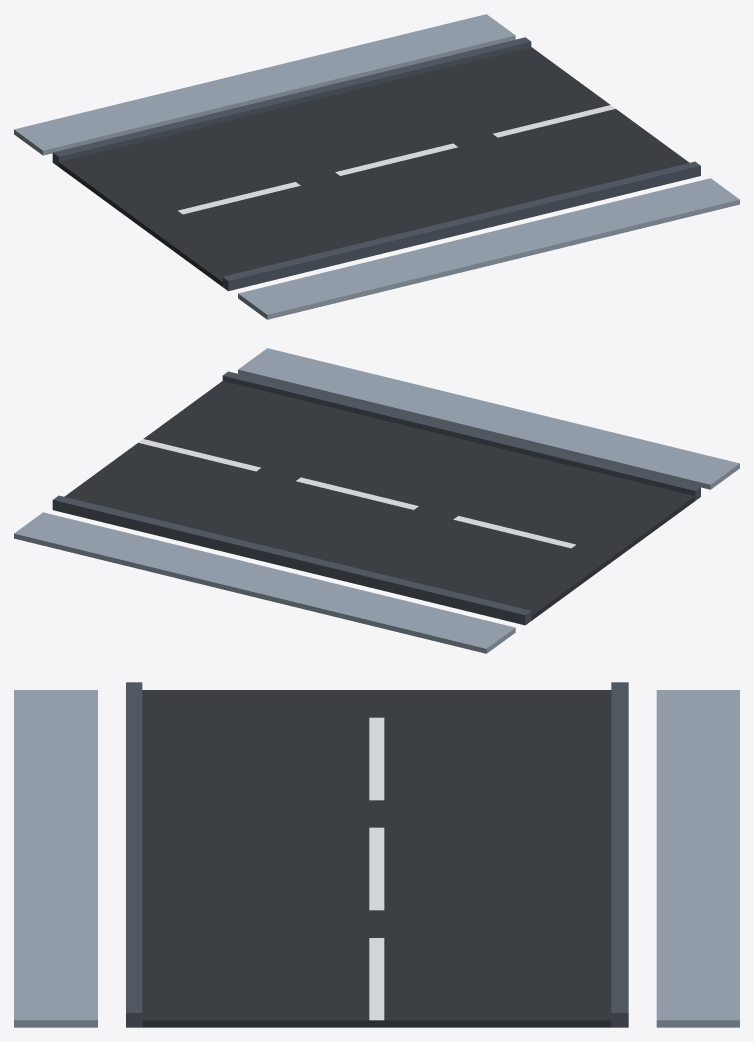
The model's file is road1.glb.
3 renders of one model, top to bottom at view 1: azimuth 30°, elevation 25°; view 2: azimuth 150°, elevation 25°; view 3: azimuth 270°, elevation 25°, orthographic. The views are drawn at different scales.
Parts seen in each view (by area): view 1: jalan1; view 2: jalan1; view 3: jalan1.
Boxes of the visible parts, x1=… form: jalan1: x1=14, y1=14, x2=739, y2=319; jalan1: x1=14, y1=348, x2=739, y2=653; jalan1: x1=14, y1=682, x2=739, y2=1027.
Size of the model in its own units: 10 by 0.2068 by 9.29.
